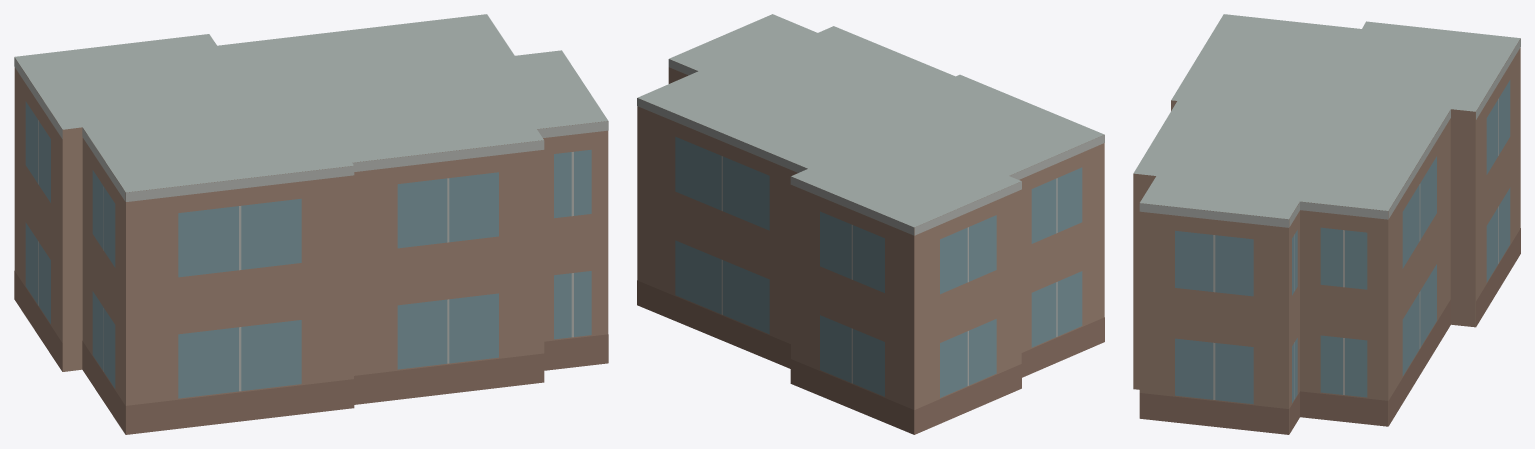
The model's file is survey-upis-32813596.glb.
3 views of the same model, side by side, from view 1: azimuth 30°, elevation 25°; view 2: azimuth 150°, elevation 25°; view 3: azimuth 270°, elevation 25° (orthographic). The views are drawn at different scales.
Visible parts, largest first — view 1: survey-upis-32813596.tmp; view 2: survey-upis-32813596.tmp; view 3: survey-upis-32813596.tmp.
Part boxes in pixels (x1,y1,x2,y2): survey-upis-32813596.tmp: (14,14,608,434); survey-upis-32813596.tmp: (637,14,1104,434); survey-upis-32813596.tmp: (1133,14,1520,434).
Size of the model in its own units: 12.46 by 6.1 by 9.95.
